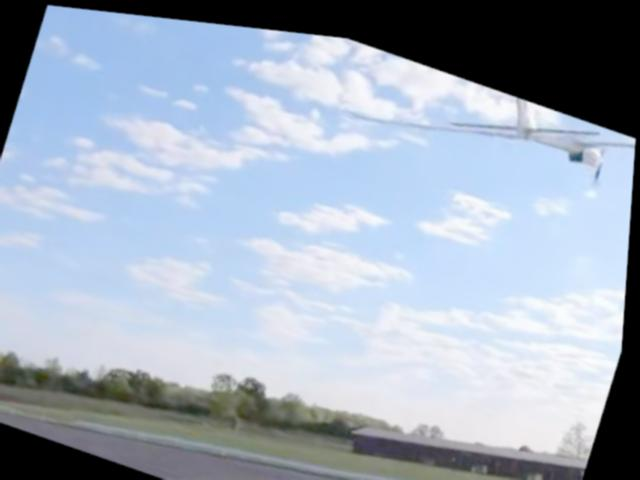iha: (347, 36, 640, 204)
